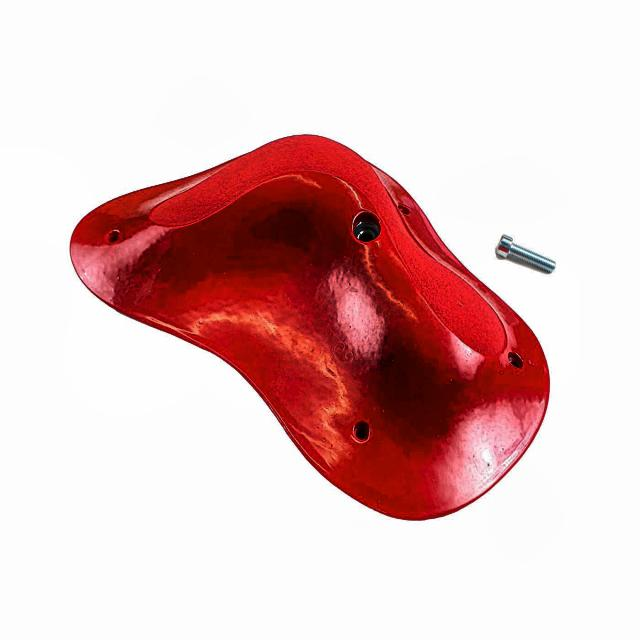Hold: (72, 135, 565, 525)
